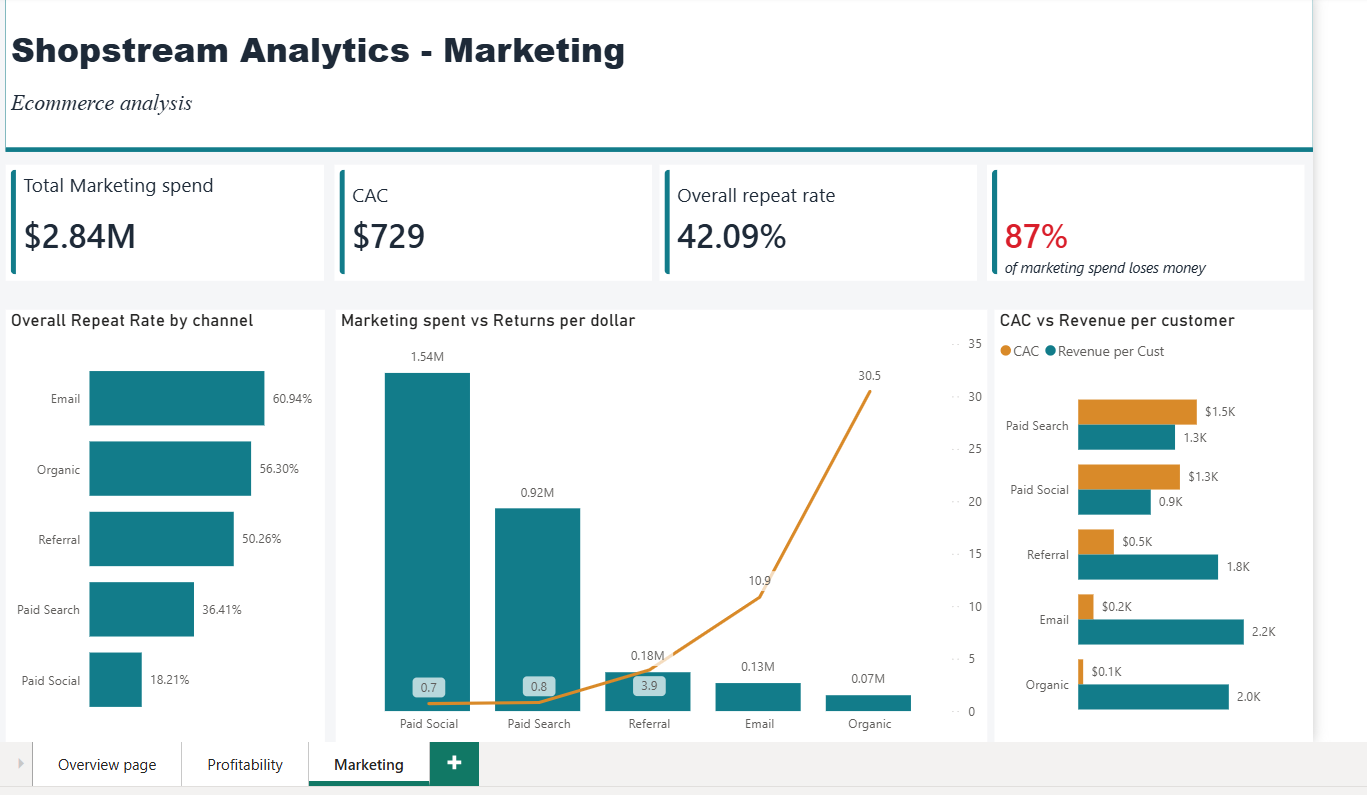

This screenshot's page, from the dashboard's own definition file:
{"tool":"powerbi","page":{"name":"Marketing","canvas":[1280,720],"ordinal":2},"visuals":[{"type":"cardVisual","title":"Total Revenue","fields":{"Data":["_Measures.% Spend on Losing Channels"]},"box":[965.5,163.3,306.4,111.9],"z":0},{"type":"cardVisual","title":"Total Revenue","fields":{"Data":["_Measures.Overall Repeat Rate"]},"box":[649.1,163.3,306.4,111.9],"z":1000},{"type":"cardVisual","title":"Total Revenue","fields":{"Data":["_Measures.Blended CAC"]},"box":[335.6,163.3,306.4,111.9],"z":2000},{"type":"cardVisual","title":"Total Revenue","fields":{"Data":["_Measures.Total Marketing Spend"]},"box":[18.1,163.3,307.4,111.9],"z":3000},{"type":"shape","box":[18.6,0,1261.4,150],"z":4000},{"type":"textbox","box":[30.2,163.7,214.6,49.3],"z":5000},{"type":"shape","box":[18.6,0,1261.4,146],"z":6000},{"type":"textbox","box":[18.6,24.4,638.8,61.6],"z":7000},{"type":"textbox","box":[18.6,86,341.5,40.7],"z":8000},{"type":"textbox","box":[660.6,173.8,182.7,49.7],"z":10000},{"type":"textbox","box":[347.3,174.2,141.7,48.8],"z":11000},{"type":"lineClusteredColumnComboChart","title":"Marketing spent vs Returns per dollar","fields":{"Y2":["Sum(vw_channel_performance.value_to_cac)"],"Category":["vw_channel_performance.channel"],"Y":["Sum(vw_channel_performance.marketing_spend)"]},"box":[336.4,302.6,628.9,417.5],"z":12000},{"type":"textbox","box":[977.1,247,293.4,28.7],"z":16001},{"type":"clusteredBarChart","fields":{"Category":["vw_channel_performance.channel"],"Y":["_Measures.Overall Repeat Rate"]},"box":[18.6,302.6,307.7,417.5],"z":16002},{"type":"clusteredBarChart","title":"CAC vs Revenue per customer","fields":{"Category":["vw_channel_performance.channel"],"Y":["_Measures.Blended CAC","_Measures.Revenue per Cust"]},"box":[972,302.6,307.7,417.5],"z":16003}]}

Visuals, with their boxes on the page's 1280x720 design canvas (x1, y1, x2, y2). These are canvas units, not pixel positions in the 1367x795 screenshot, which may show the page scaled, cropped or inside an application window:
"Total Revenue" cardVisual: [966,163,1272,275]
"Total Revenue" cardVisual: [649,163,956,275]
"Total Revenue" cardVisual: [336,163,642,275]
"Total Revenue" cardVisual: [18,163,326,275]
shape: [19,0,1280,150]
textbox: [30,164,245,213]
shape: [19,0,1280,146]
textbox: [19,24,657,86]
textbox: [19,86,360,127]
textbox: [661,174,843,224]
textbox: [347,174,489,223]
"Marketing spent vs Returns per dollar" lineClusteredColumnComboChart: [336,303,965,720]
textbox: [977,247,1270,276]
clusteredBarChart - vw_channel_performance.channel x _Measures.Overall Repeat Rate: [19,303,326,720]
"CAC vs Revenue per customer" clusteredBarChart: [972,303,1280,720]
